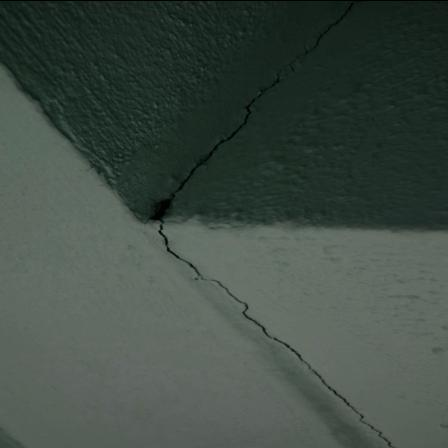crack: (126, 0, 399, 448)
